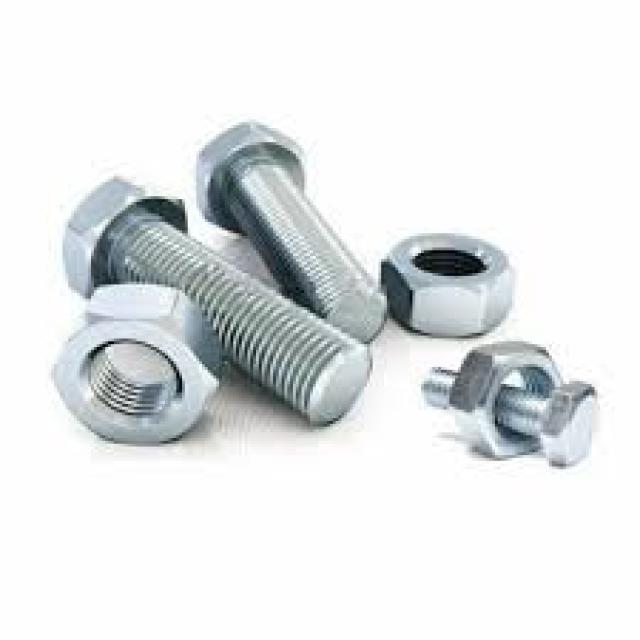Turning: (39, 170, 390, 444), (184, 113, 406, 354), (26, 272, 238, 454), (413, 341, 616, 482), (378, 206, 559, 345)
